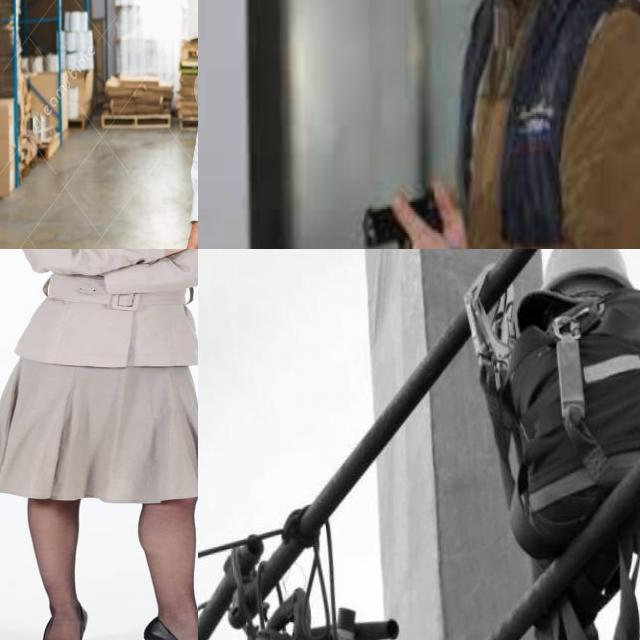Harness: (527, 311, 640, 512)
